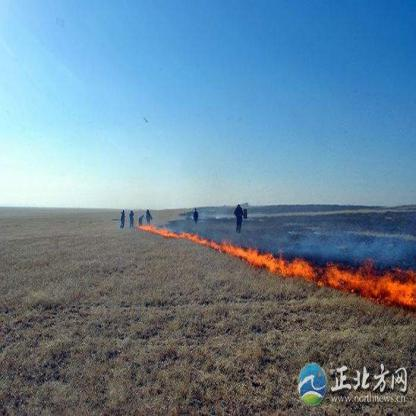fire: (134, 216, 413, 314)
